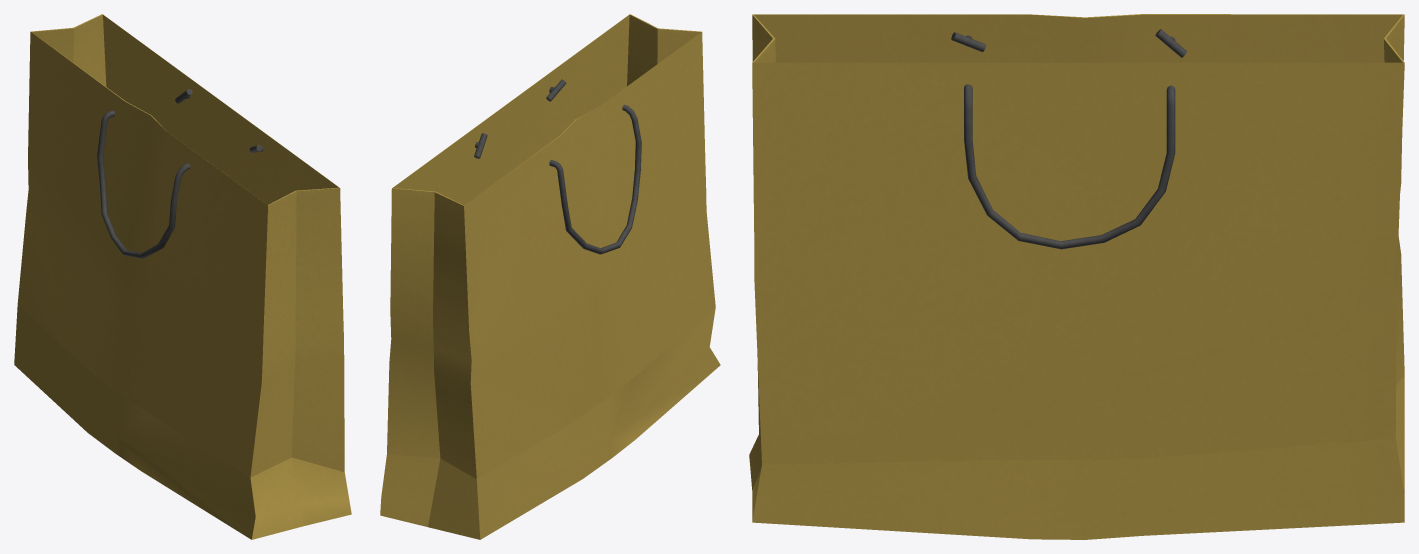
The model's file is ShoppingBag_wIED.fbx.
3 renders of one model, left to right at view 1: azimuth 30°, elevation 25°; view 2: azimuth 150°, elevation 25°; view 3: azimuth 270°, elevation 25°, orthographic. The views are drawn at different scales.
Visible parts, largest first — view 1: HardPaperShoppingBag; view 2: HardPaperShoppingBag; view 3: HardPaperShoppingBag.
Part boxes in pixels (<box>): HardPaperShoppingBag: <box>14,14,351,539</box>; HardPaperShoppingBag: <box>380,14,720,539</box>; HardPaperShoppingBag: <box>749,14,1404,539</box>.
Size of the model in its own units: 17.33 by 37.75 by 49.61.
